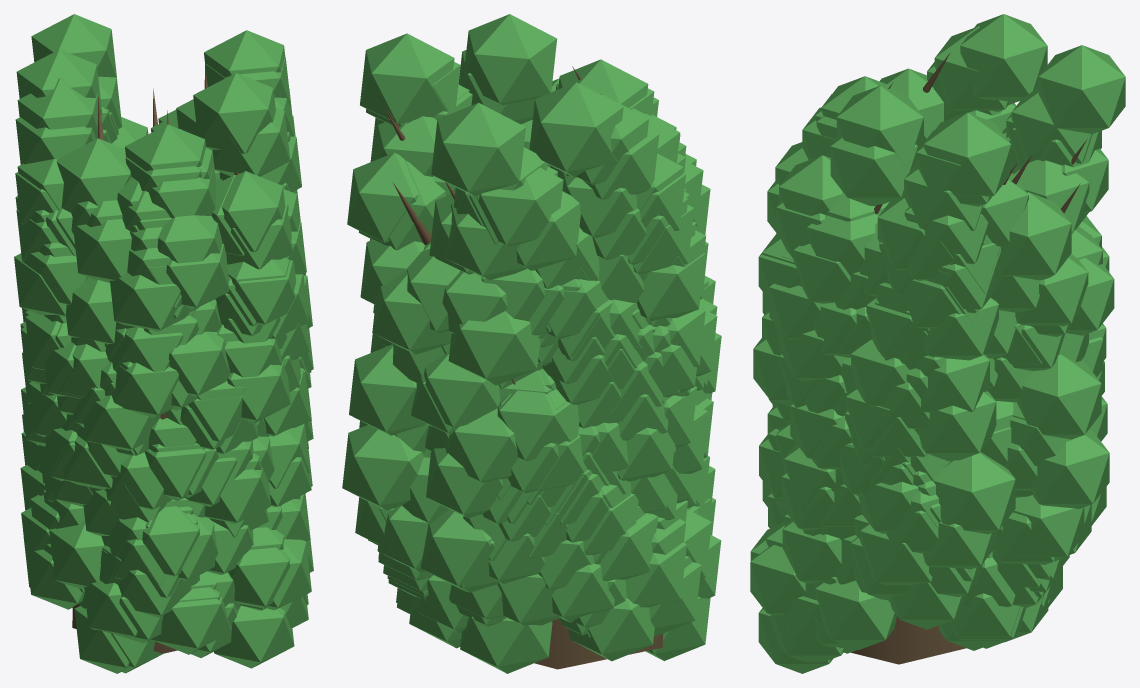
File: tree_var_3324.glb
3 views of the same model, side by side, from view 1: azimuth 30°, elevation 25°; view 2: azimuth 150°, elevation 25°; view 3: azimuth 270°, elevation 25° (orthographic). The views are drawn at different scales.
Visible parts, largest first — view 1: tree_var_3324; view 2: tree_var_3324; view 3: tree_var_3324.
Part boxes in pixels (<box>): tree_var_3324: <box>14,14,313,673</box>; tree_var_3324: <box>342,14,721,673</box>; tree_var_3324: <box>750,14,1125,673</box>.
Bounding box in the file's own units: 3.05 × 5.89 × 3.29.
